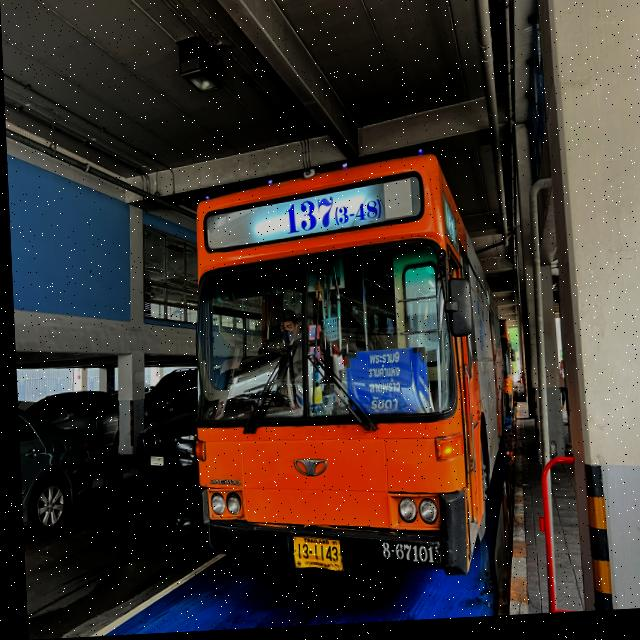BMTA-bus: (180, 155, 510, 593)
Bus-Line-Number: (280, 191, 381, 240)
Destination-Sign-Normal: (340, 351, 426, 422)
